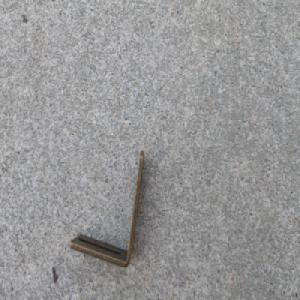MetalPart: (68, 148, 146, 269)
